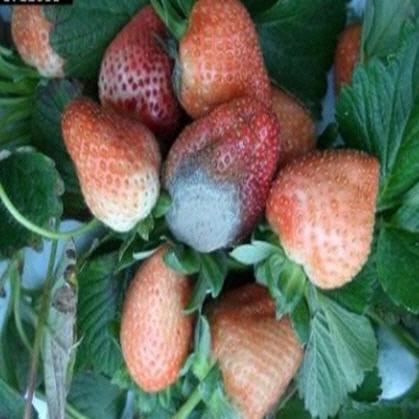Gray Mold: (159, 98, 281, 253)
